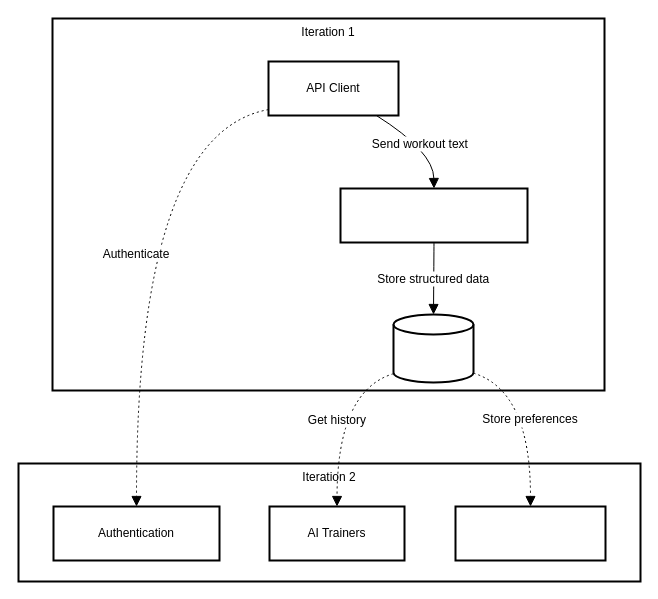
Some shapes in this 658 by 599 pixel diagram are drawn without their labels. Each missing label, with the centre of its shape:
"AI Workout Parser" goes at pixel 433 215.
"Database" goes at pixel 433 348.
"User Profiles" goes at pixel 530 533.
